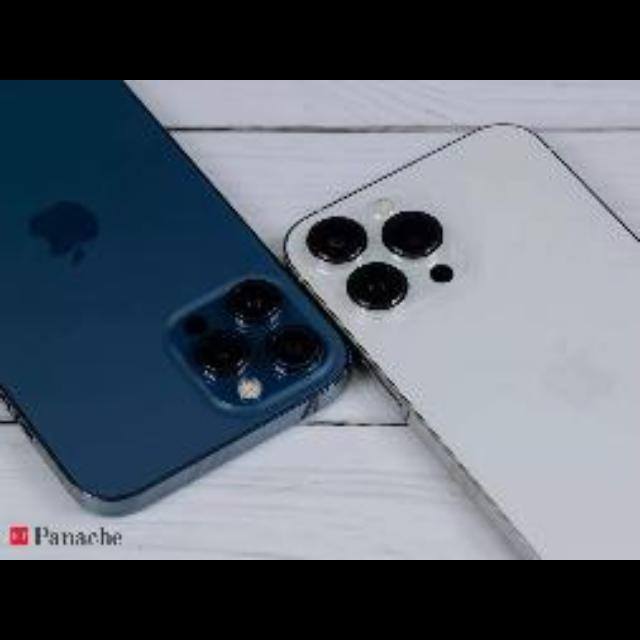phone: (278, 107, 632, 553), (5, 74, 347, 534)
